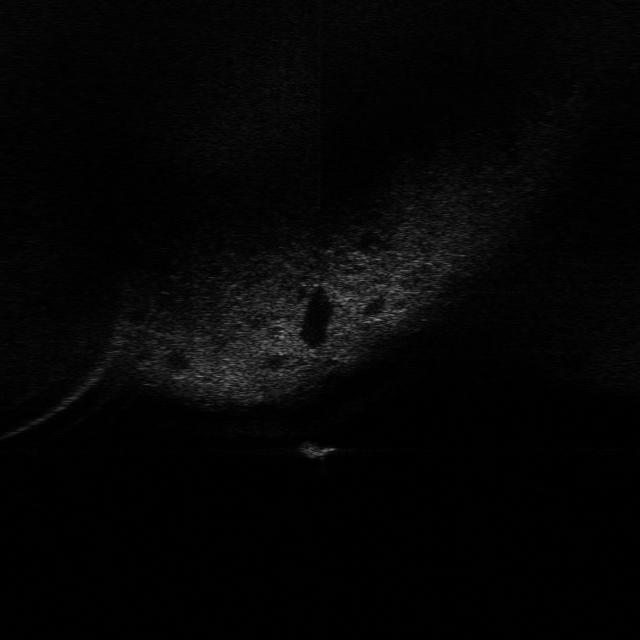cube: (294, 436, 340, 464)
